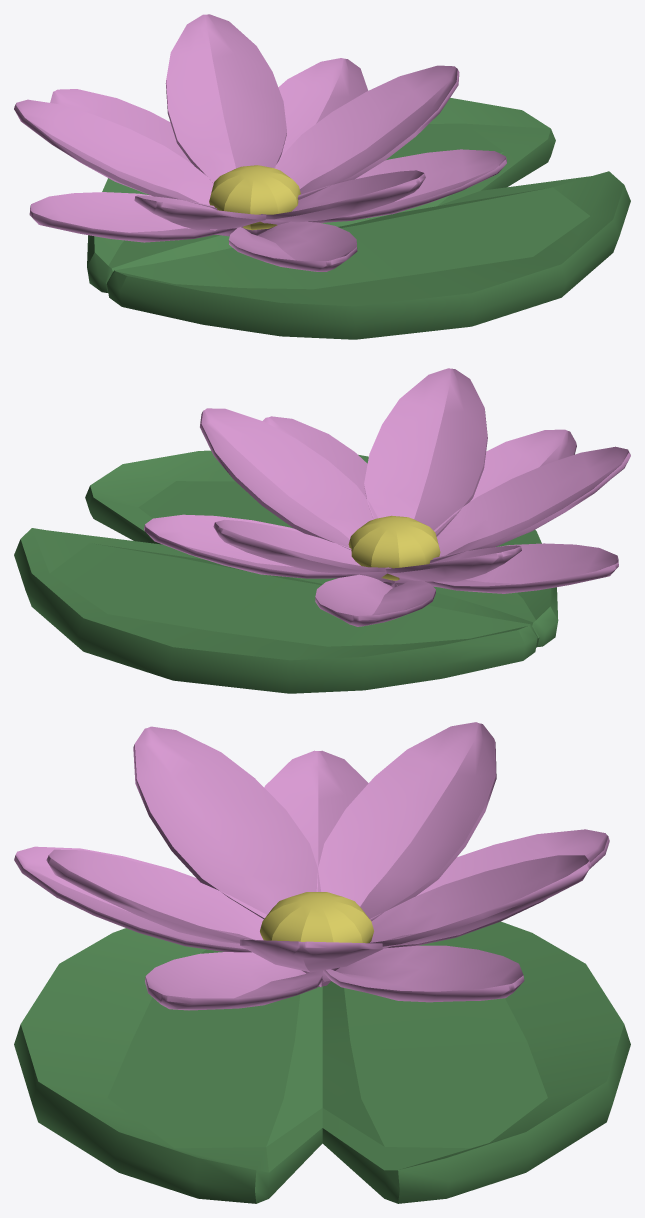
Rendered from lotus.fbx.
The picture shows the model from 3 angles, top to bottom: view 1: azimuth 30°, elevation 25°; view 2: azimuth 150°, elevation 25°; view 3: azimuth 270°, elevation 25°; orthographic projection. The views are drawn at different scales.
Parts seen in each view (by area): view 1: lilly; view 2: lilly; view 3: lilly.
Boxes of the visible parts, bbox=[...] form: lilly: bbox=[14, 14, 630, 339]; lilly: bbox=[14, 368, 630, 693]; lilly: bbox=[14, 722, 630, 1203].
Bounding box in the file's own units: 294 × 75.41 × 231.
